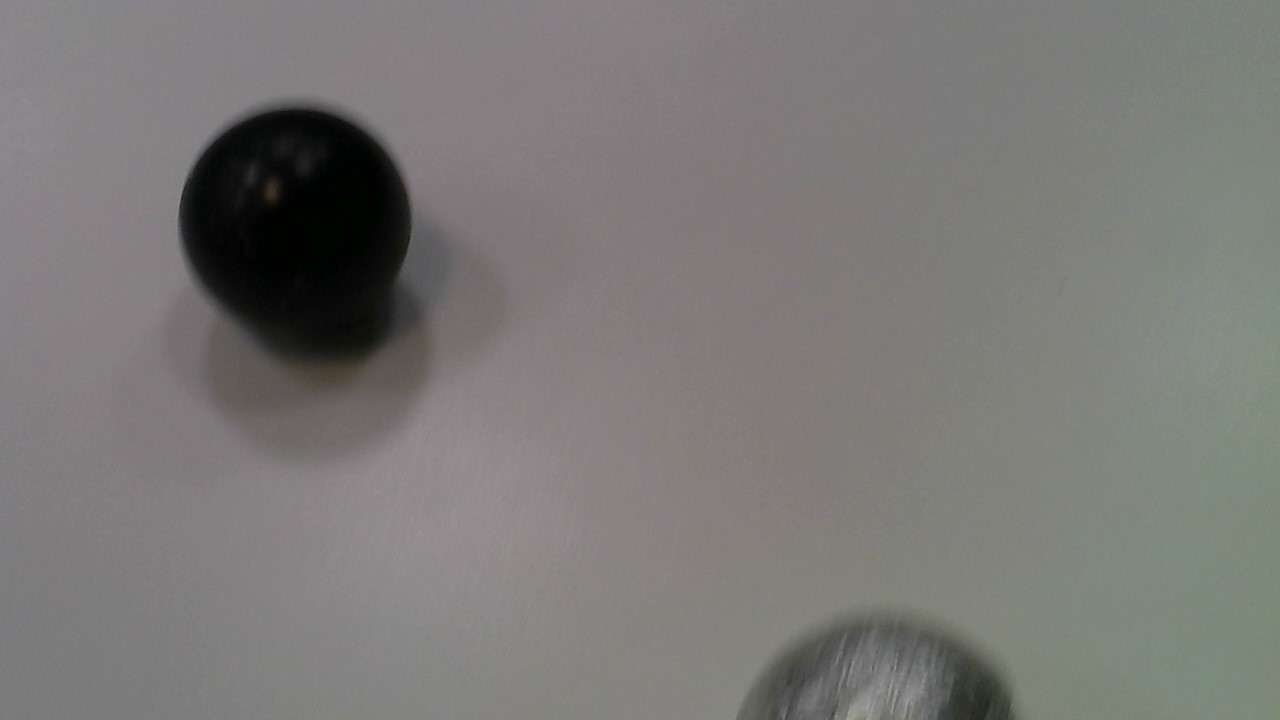black_ball: (167, 107, 425, 334)
